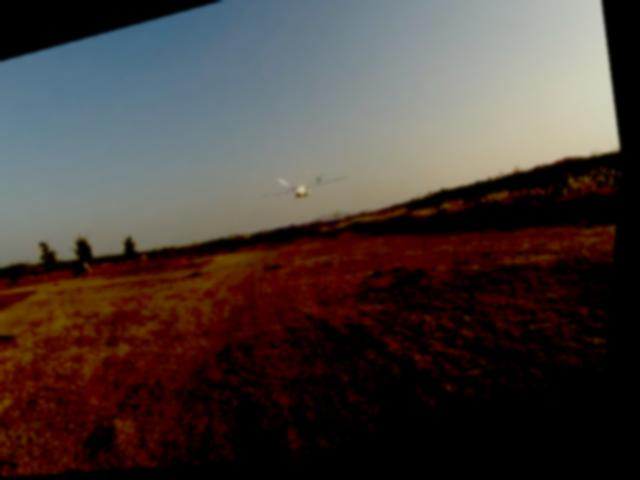uav: (248, 153, 364, 232)
